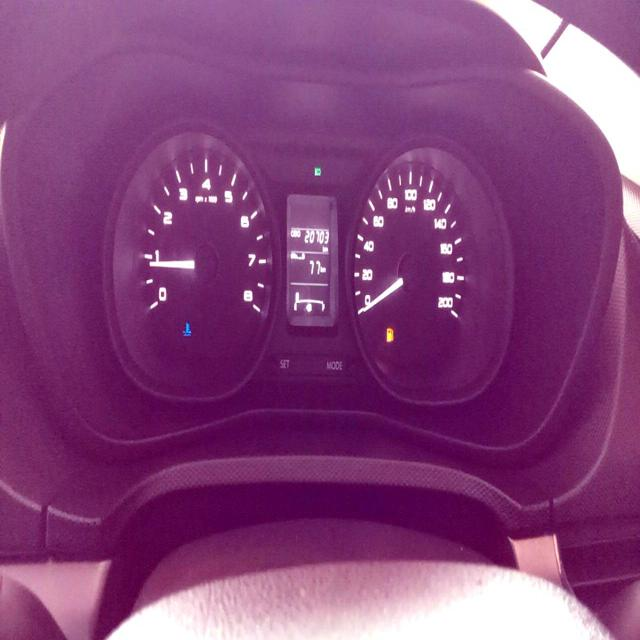odometer: (303, 228, 331, 245)
